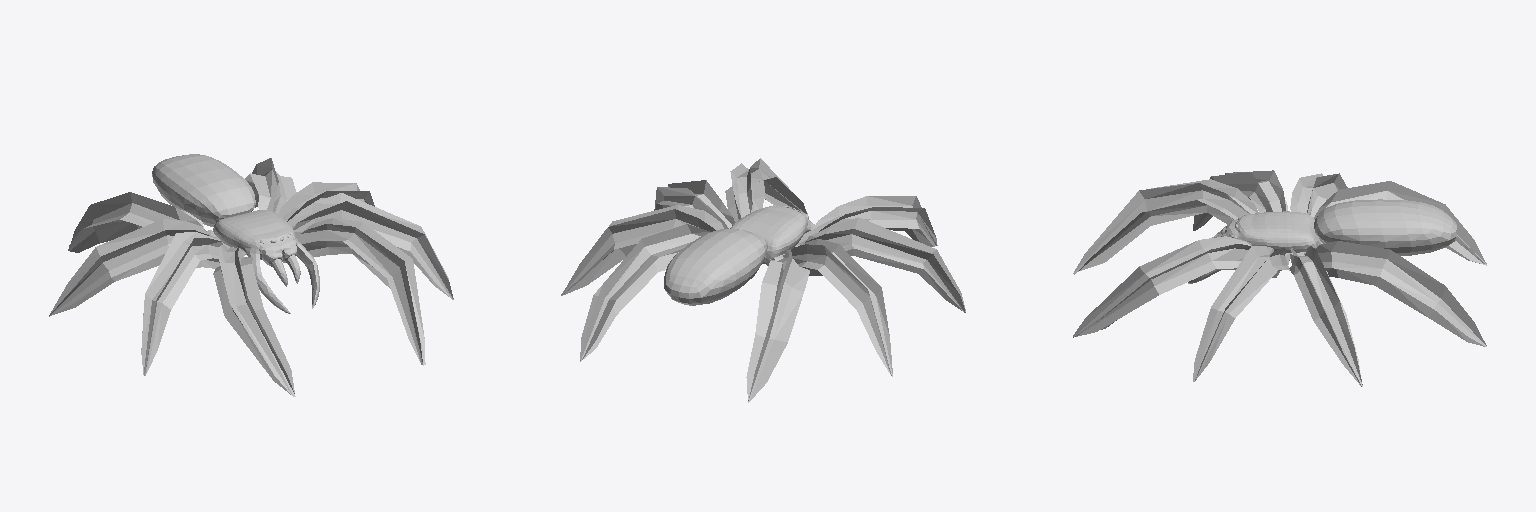
The model's file is spider_new5.obj.
The picture shows the model from 3 angles: view 1: azimuth 30°, elevation 25°; view 2: azimuth 150°, elevation 25°; view 3: azimuth 270°, elevation 25°; orthographic projection.
Parts seen in each view (by area): view 1: Cube_Cube.002, Cube.002_Cube.000; view 2: Cube_Cube.002, Cube.002_Cube.000; view 3: Cube_Cube.002, Cube.002_Cube.000.
Part boxes in pixels (left/top/right/bottom): Cube_Cube.002: left=49, top=158, right=453, bottom=396; Cube.002_Cube.000: left=152, top=154, right=319, bottom=313; Cube_Cube.002: left=561, top=158, right=965, bottom=402; Cube.002_Cube.000: left=664, top=205, right=814, bottom=305; Cube_Cube.002: left=1073, top=170, right=1486, bottom=386; Cube.002_Cube.000: left=1188, top=199, right=1457, bottom=283.
Size of the model in its own units: 9.2 by 2.65 by 9.93.